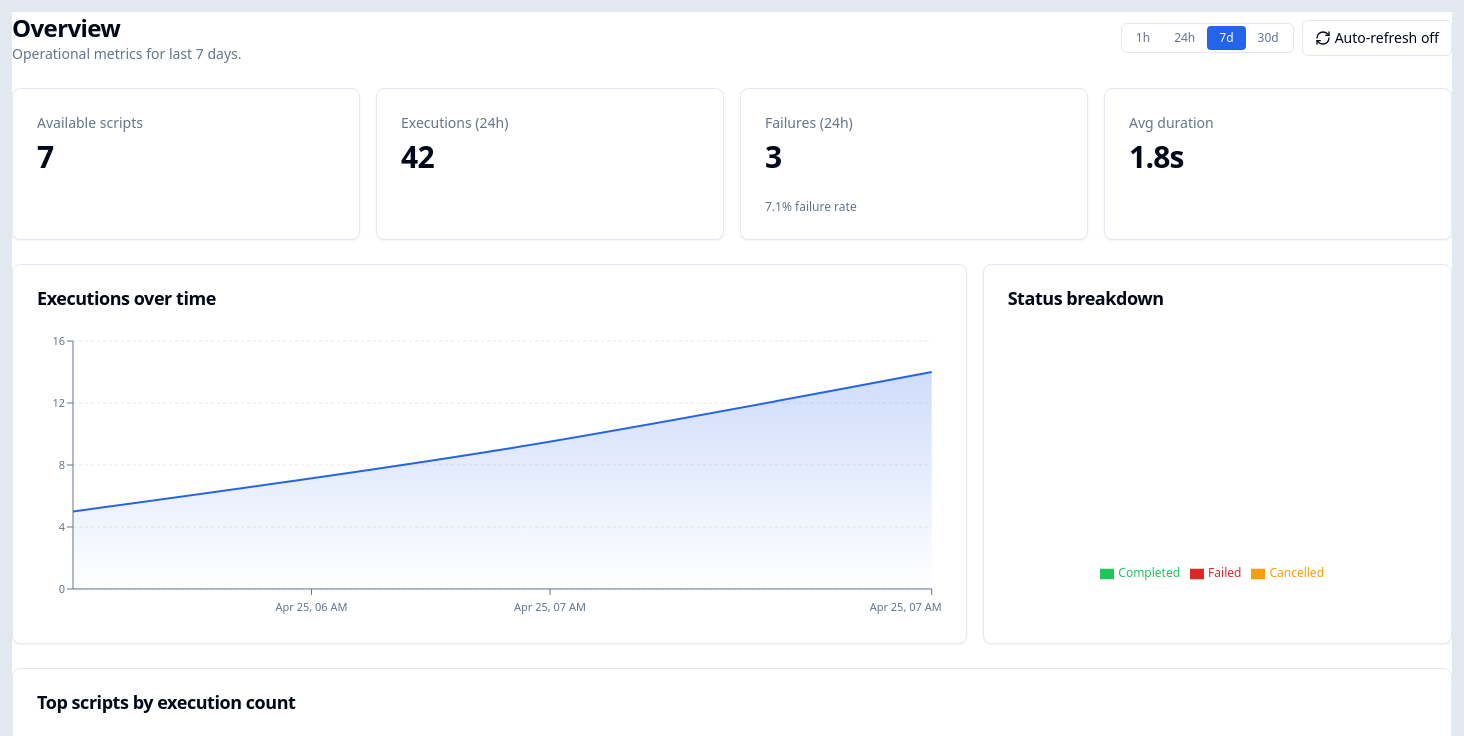
it: DashboardPage › switches the range when a preset button is clicked
Expected: the heading "7" is shown, [37, 136, 53, 177]
Click the button "30d": coordinates (1268, 38) [1246, 26, 1291, 50]
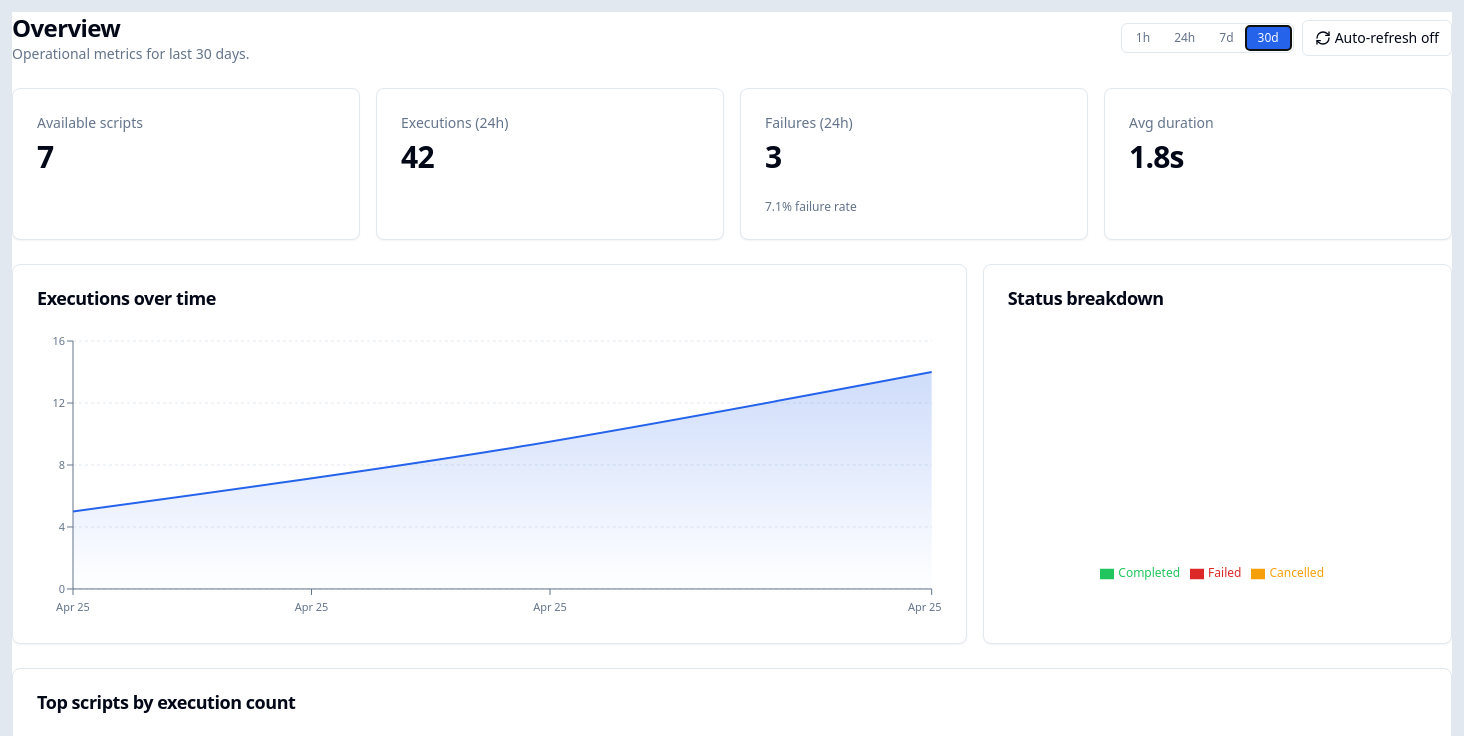
Now the text "Operational metrics for last 30 days." is shown, box [12, 44, 250, 64]
